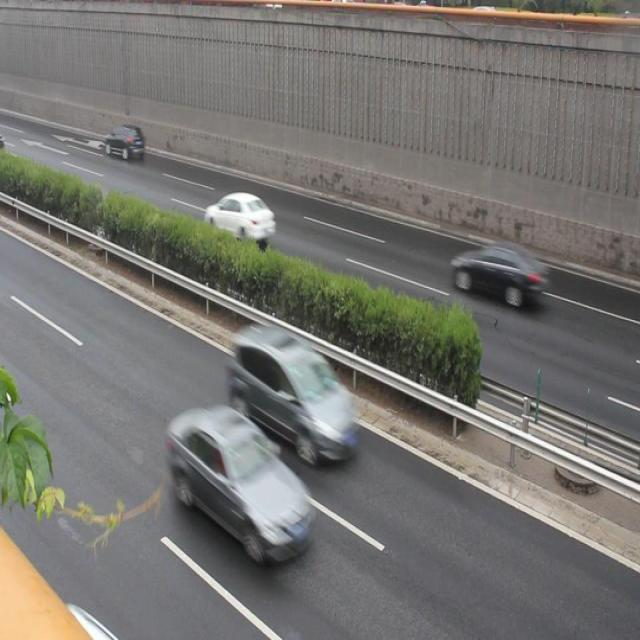car: (169, 406, 315, 563), (231, 327, 357, 464), (451, 242, 546, 307), (206, 192, 276, 243), (106, 124, 144, 162)
